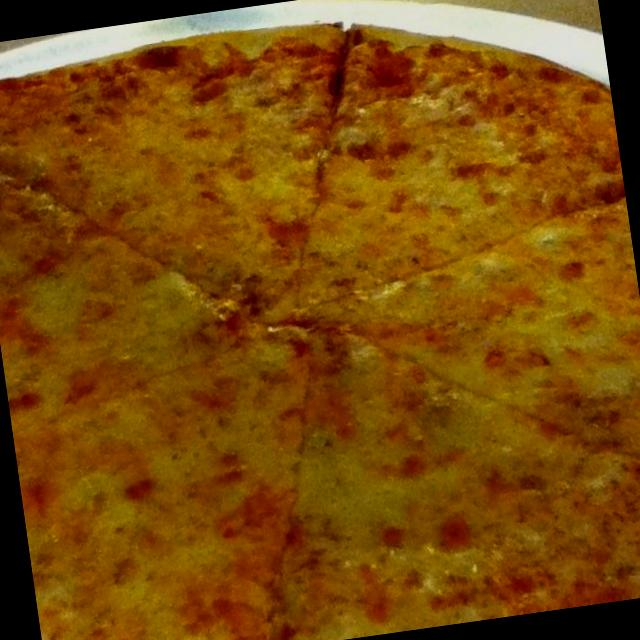pizza: (0, 27, 640, 640)
